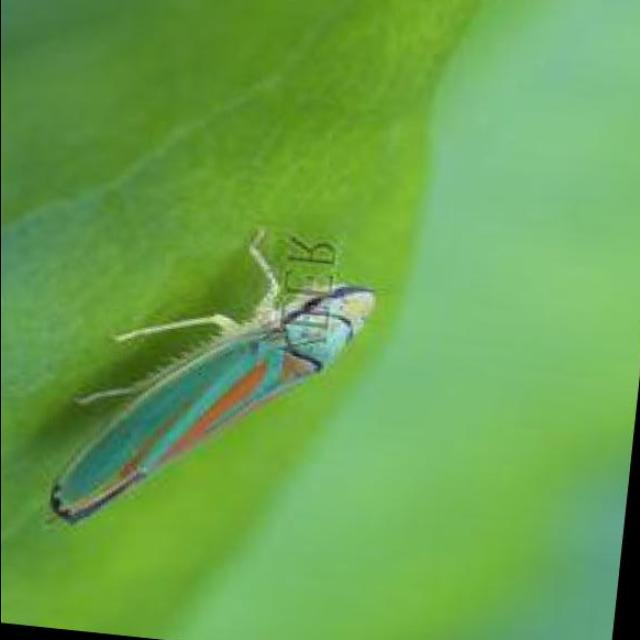green leaf hopper: (51, 232, 374, 525)
